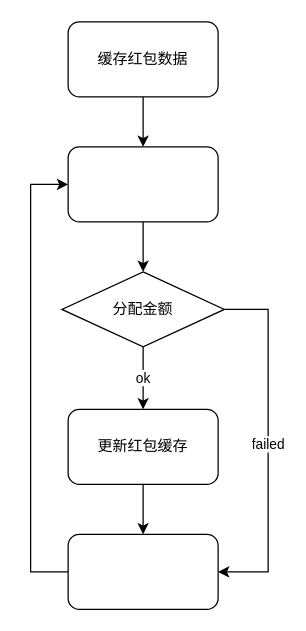
Image size: 306x631. Some labels were removed from this diagram. Each missing label, with the centre of its shape:
"响应结果" belongs at [142,571].
"接受抢红包请求" belongs at [142,184].
